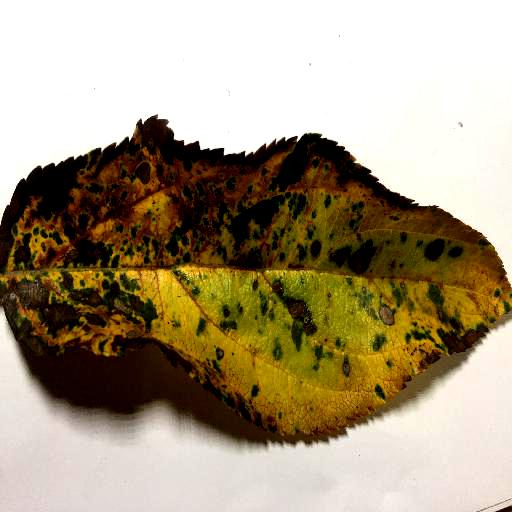Brown_Spot: (2, 156, 320, 452), (331, 244, 477, 377)
